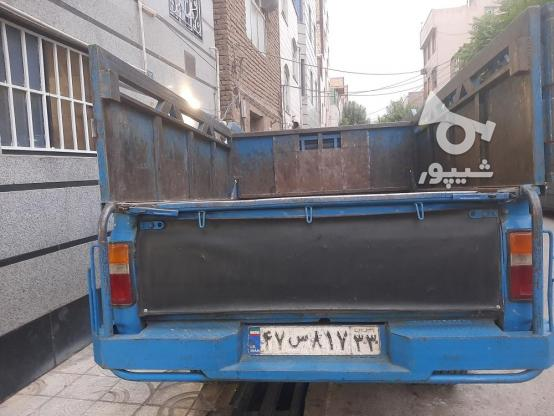car: (244, 323, 381, 357)
